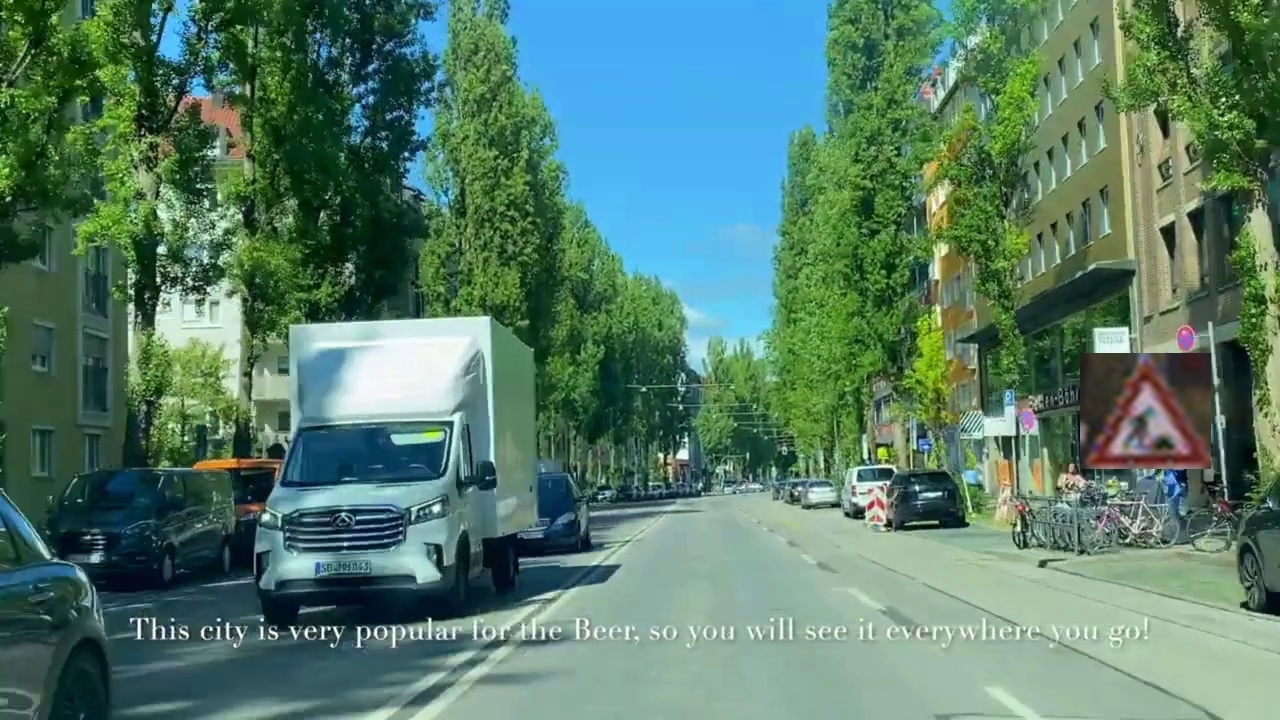Road work: (1080, 353, 1211, 469)
